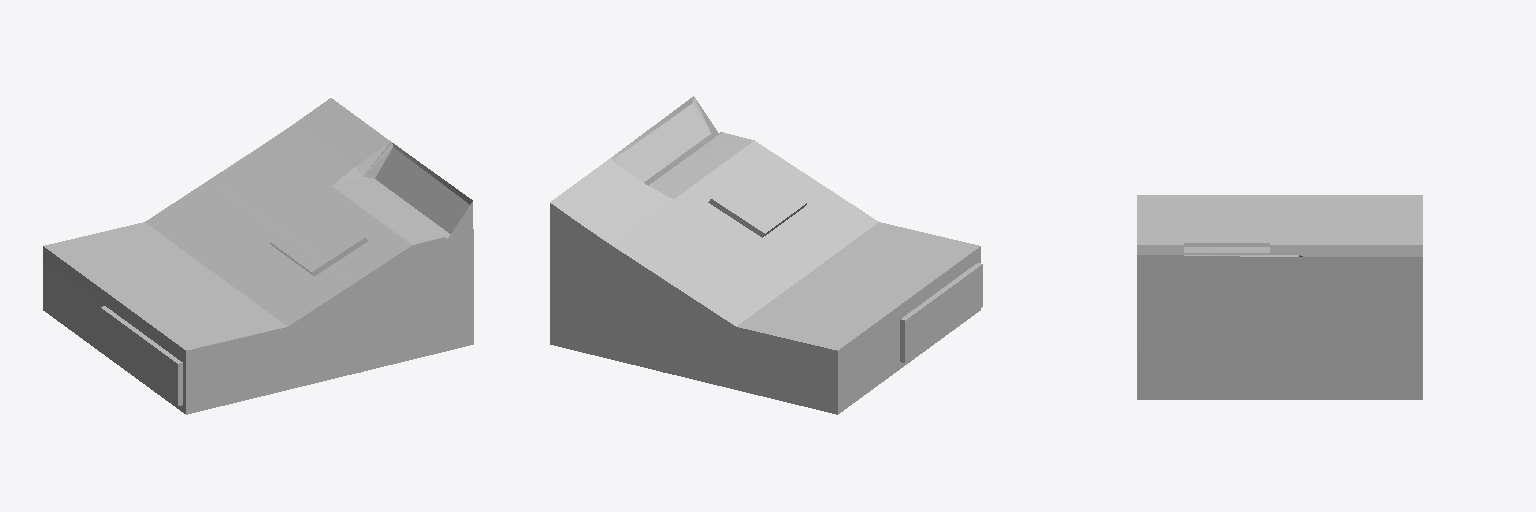
The model's file is cash register.obj.
The picture shows the model from 3 angles: view 1: azimuth 30°, elevation 25°; view 2: azimuth 150°, elevation 25°; view 3: azimuth 270°, elevation 25°; orthographic projection.
Parts seen in each view (by area): view 1: pCube2.002; view 2: pCube2.002; view 3: pCube2.002.
Part boxes in pixels (left/top/right/bottom): pCube2.002: left=43, top=98, right=473, bottom=414; pCube2.002: left=550, top=96, right=982, bottom=414; pCube2.002: left=1137, top=195, right=1422, bottom=399.
Bounding box in the file's own units: 1.18 × 0.5564 × 1.